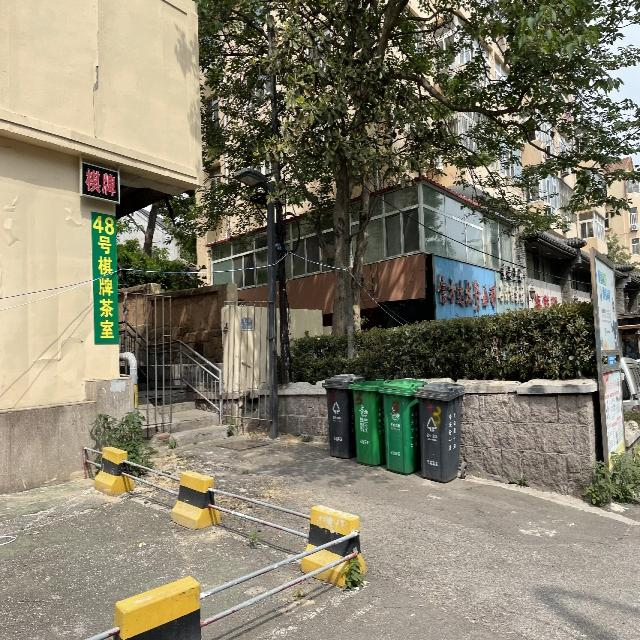garbage_bin: (413, 382, 464, 482), (378, 378, 427, 475), (322, 372, 364, 457), (348, 379, 384, 465)
